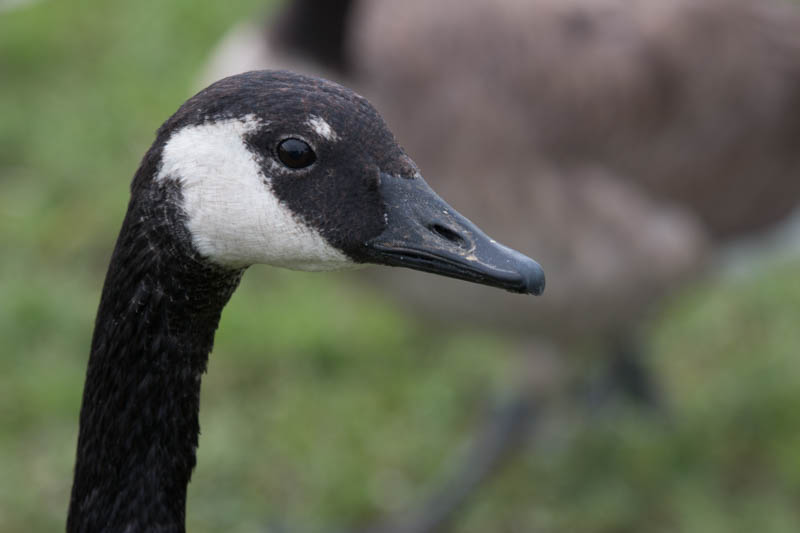goose-head: (130, 68, 547, 298)
